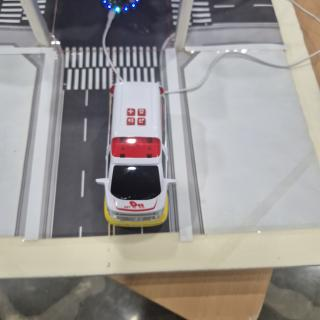Ambulance: (96, 82, 175, 227)
